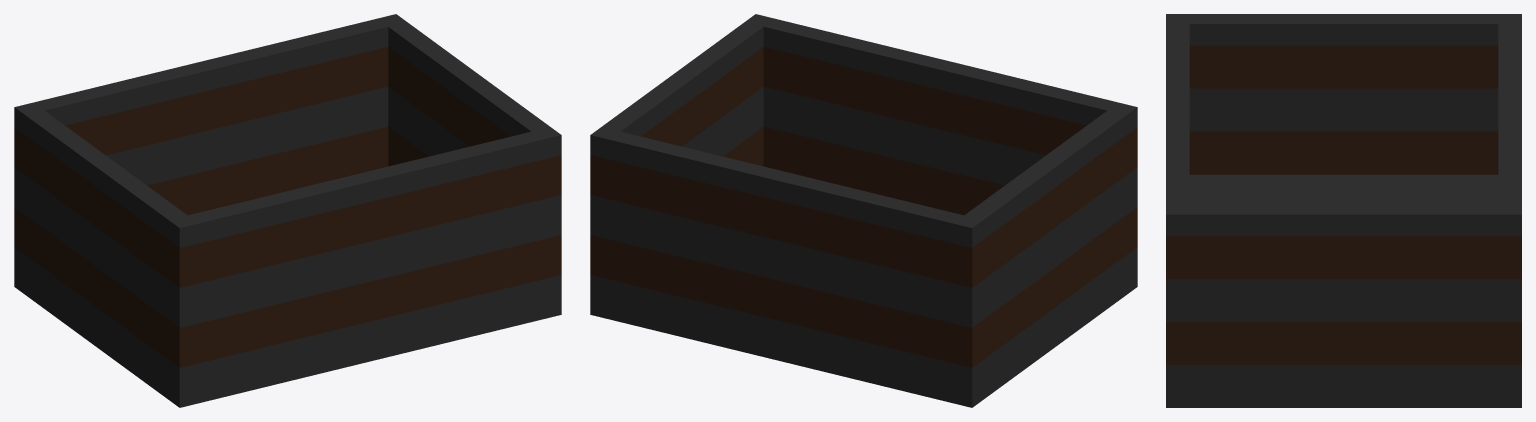
File: Chest 1.fbx
3 views of the same model, side by side, from view 1: azimuth 30°, elevation 25°; view 2: azimuth 150°, elevation 25°; view 3: azimuth 270°, elevation 25° (orthographic). The views are drawn at different scales.
Visible parts, largest first — view 1: Chest; view 2: Chest; view 3: Chest.
Boxes of the visible parts, x1,y1,x2,y2 form: Chest: (14, 14, 561, 407); Chest: (590, 14, 1137, 407); Chest: (1166, 14, 1521, 407).
Bounding box in the file's own units: 20 × 9 × 15.
